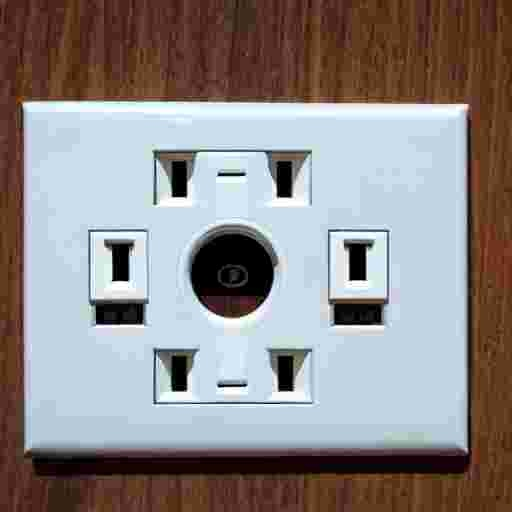power outlet: (23, 101, 467, 455), (351, 350, 435, 404)
